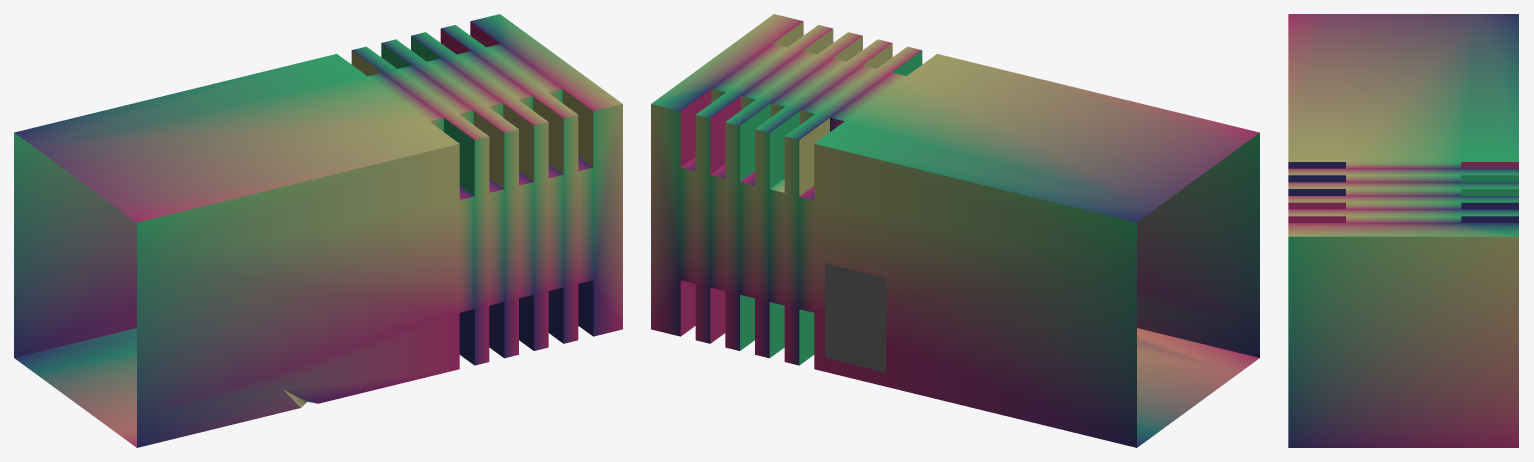
File: Eff_ben_Weapon.fbx
The picture shows the model from 3 angles, left to right: view 1: azimuth 30°, elevation 25°; view 2: azimuth 150°, elevation 25°; view 3: azimuth 270°, elevation 25°; orthographic projection. The views are drawn at different scales.
Parts seen in each view (by area): view 1: Eff_ben_Weapon; view 2: Eff_ben_Weapon; view 3: Eff_ben_Weapon.
Part boxes in pixels (left/top/right/bottom): Eff_ben_Weapon: left=14, top=14, right=622, bottom=447; Eff_ben_Weapon: left=651, top=14, right=1259, bottom=447; Eff_ben_Weapon: left=1288, top=14, right=1518, bottom=447.
Bounding box in the file's own units: 0.9174 × 0.4071 × 0.4033.
